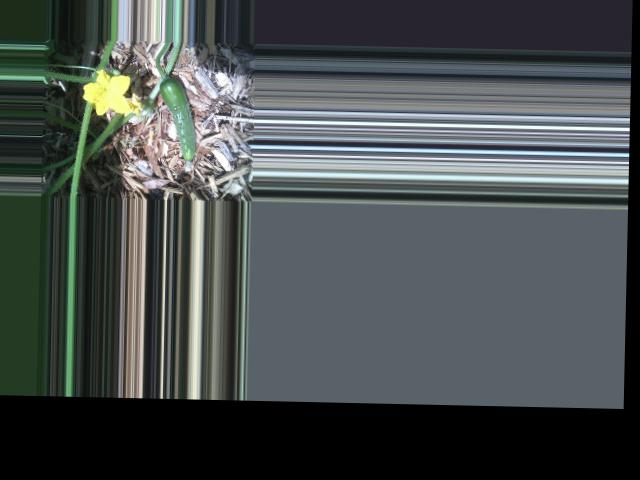cucumber: (157, 76, 198, 169)
